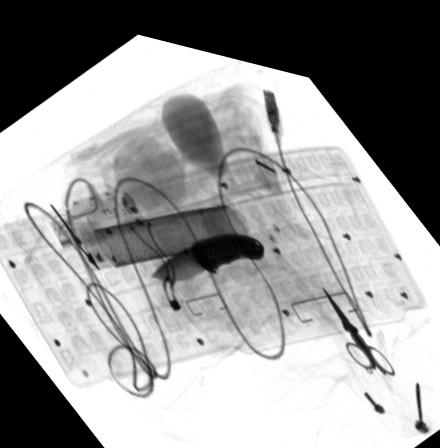Knife: (149, 221, 264, 270)
Scissors: (321, 268, 393, 355)
